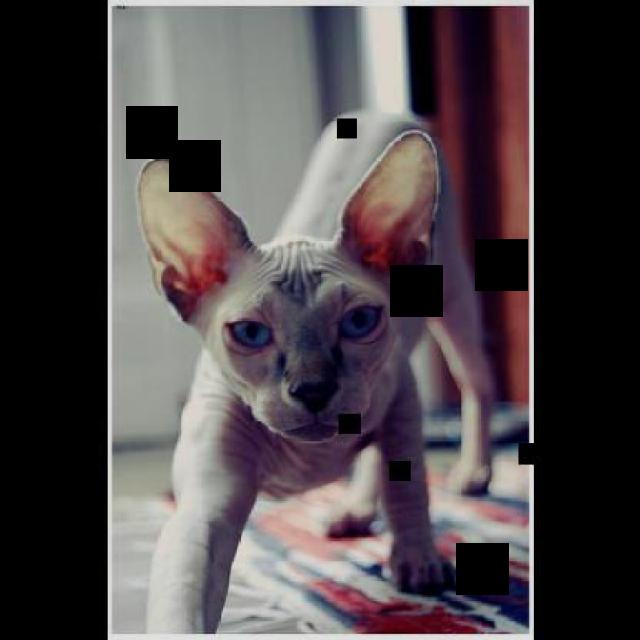unauthorized: (136, 123, 464, 632), (268, 108, 497, 500)
